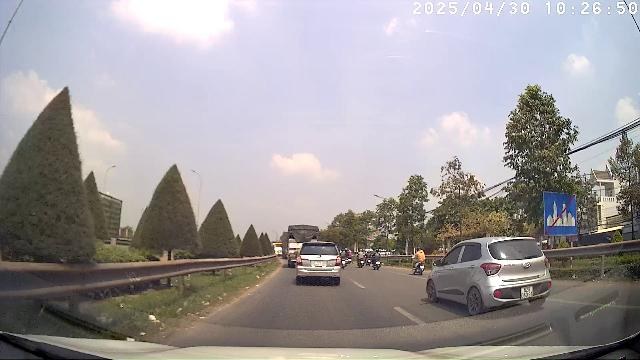421-ket-thuc-khu-dong-dan-cu: (544, 192, 578, 235)
